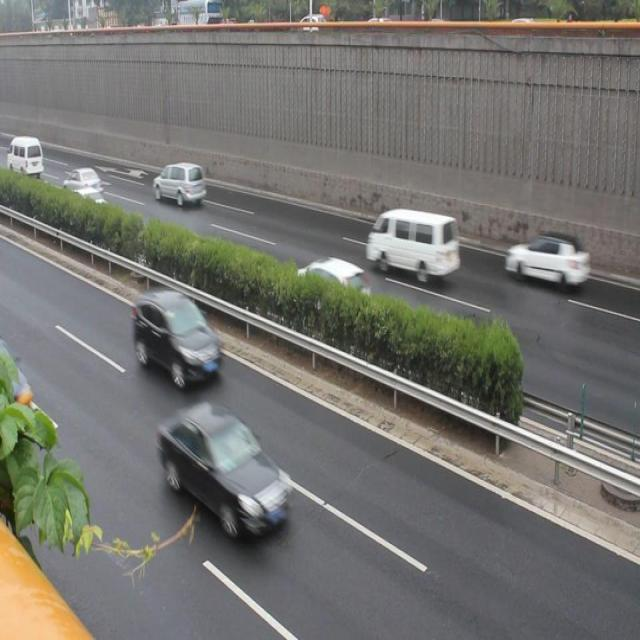car: (153, 400, 296, 537), (128, 282, 222, 394), (499, 227, 590, 294), (294, 248, 374, 310), (72, 182, 111, 220)
truck: (362, 202, 459, 284), (150, 155, 207, 210)
